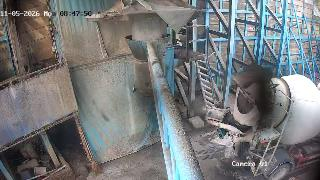cement_mixer_truck: (204, 59, 320, 180)
swing_chute: (125, 33, 169, 96)
